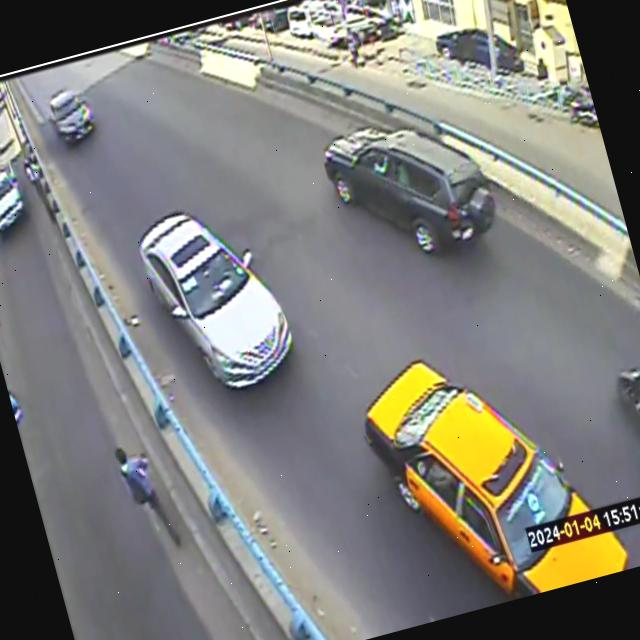car: (364, 361, 627, 598), (139, 210, 291, 387), (323, 127, 495, 253), (48, 89, 94, 142)
